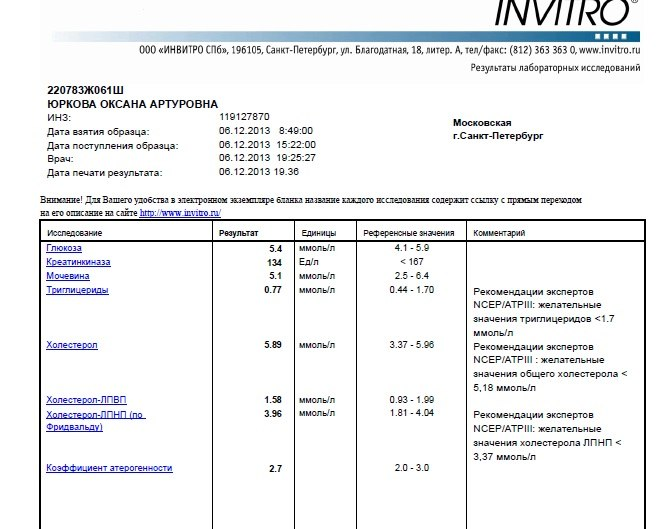column: (472, 219, 628, 529), (45, 219, 173, 529), (362, 219, 455, 529), (217, 219, 283, 529), (297, 219, 337, 529)
